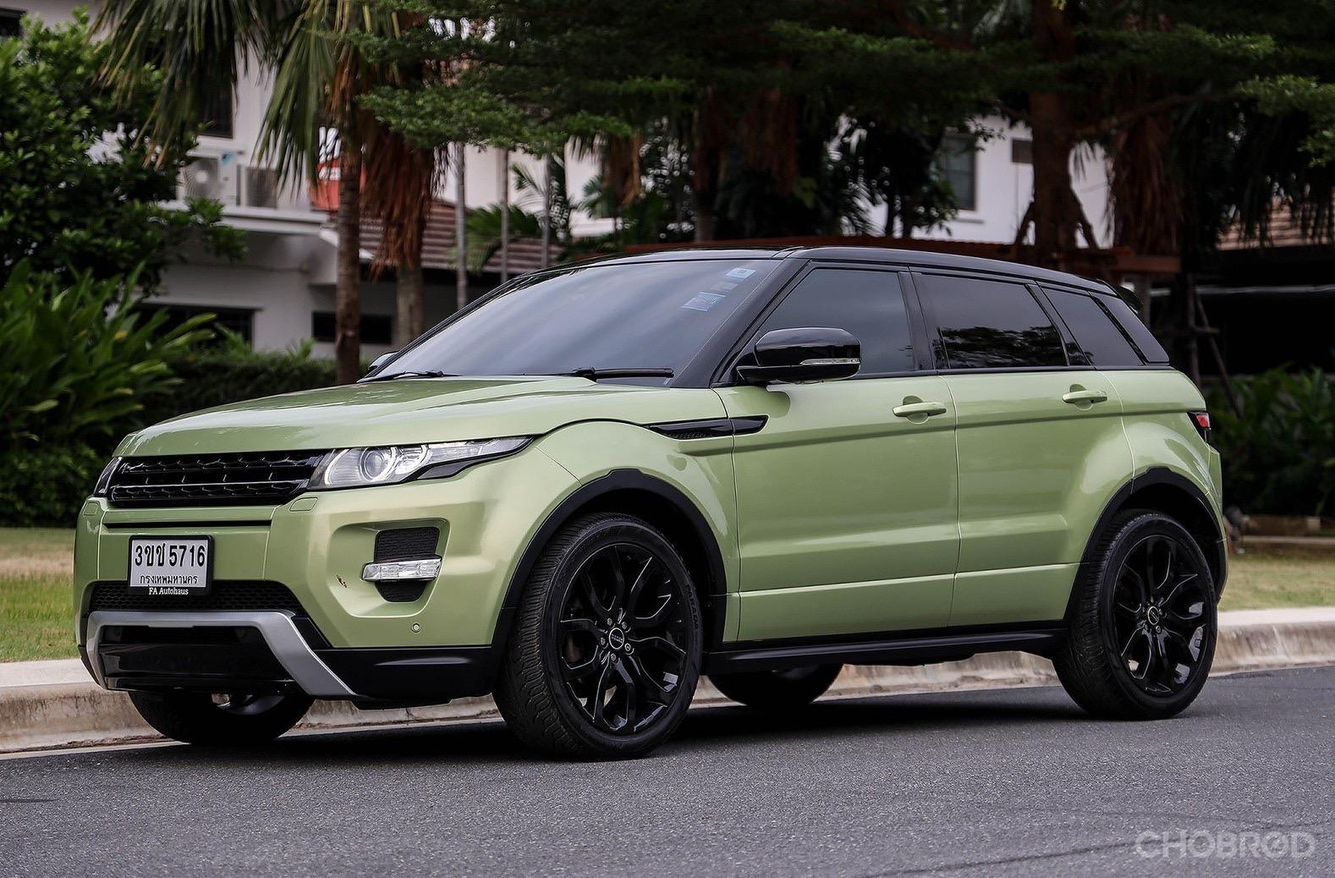license-plate: (125, 530, 214, 605)
